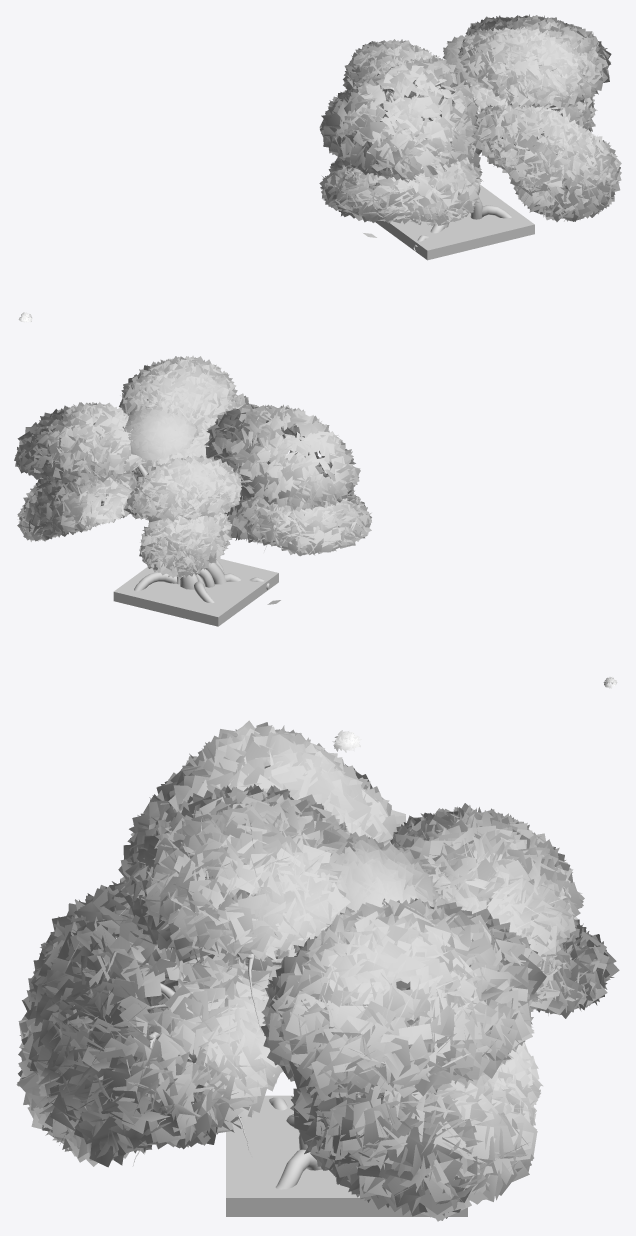
The model's file is large_tree.fbx.
3 renders of one model, top to bottom at view 1: azimuth 30°, elevation 25°; view 2: azimuth 150°, elevation 25°; view 3: azimuth 270°, elevation 25°, orthographic. The views are drawn at different scales.
Visible parts, largest first — view 1: Leaf Plane.001, Leaf Plane.006, Leaf Plane.007, Leaf Plane.002, Cube, Leaf Plane.004, Leaf Plane.003, Leaf Plane.005, Leaf Plane.009, BézierCurve.001; view 2: Leaf Plane.001, Leaf Plane.004, Leaf Plane.007, Leaf Plane.003, Leaf Plane.002, Leaf Plane.005, Cube, Leaf Plane.008, Leaf Plane.009, Leaf Plane.006, BézierCurve.001, BézierCurve; view 3: Leaf Plane.006, Leaf Plane.004, Leaf Plane.002, Leaf Plane.005, Leaf Plane.003, Leaf Plane.001, Cube, Leaf Plane.009, Leaf Plane.008, BézierCurve.001, tree.003.
Part boxes in pixels (x1,y1,x2,y2): Leaf Plane.001: [319, 56, 479, 182]; Leaf Plane.006: [474, 103, 621, 221]; Leaf Plane.007: [319, 128, 482, 225]; Leaf Plane.002: [457, 27, 586, 108]; Cube: [375, 184, 534, 260]; Leaf Plane.004: [465, 14, 611, 108]; Leaf Plane.003: [343, 39, 440, 102]; Leaf Plane.005: [466, 81, 597, 132]; Leaf Plane.009: [443, 34, 479, 86]; BézierCurve.001: [413, 205, 511, 251]; Leaf Plane.001: [204, 404, 360, 511]; Leaf Plane.004: [14, 402, 145, 485]; Leaf Plane.007: [224, 455, 371, 556]; Leaf Plane.003: [123, 455, 242, 522]; Leaf Plane.002: [119, 355, 237, 425]; Leaf Plane.005: [17, 470, 137, 541]; Cube: [113, 558, 278, 626]; Leaf Plane.008: [139, 512, 232, 578]; Leaf Plane.009: [122, 402, 198, 461]; Leaf Plane.006: [132, 393, 257, 480]; BézierCurve.001: [134, 571, 269, 603]; BézierCurve: [180, 563, 226, 589]; Leaf Plane.006: [16, 886, 289, 1167]; Leaf Plane.004: [260, 897, 546, 1102]; Leaf Plane.002: [121, 784, 355, 962]; Leaf Plane.005: [289, 1042, 543, 1221]; Leaf Plane.003: [390, 803, 584, 961]; Leaf Plane.001: [118, 720, 406, 890]; Cube: [226, 1095, 467, 1216]; Leaf Plane.009: [293, 832, 440, 952]; Leaf Plane.008: [529, 919, 619, 1018]; BézierCurve.001: [269, 1097, 321, 1189]; tree.003: [115, 861, 333, 1165].
Size of the model in its own units: 129 by 42.81 by 57.8.
